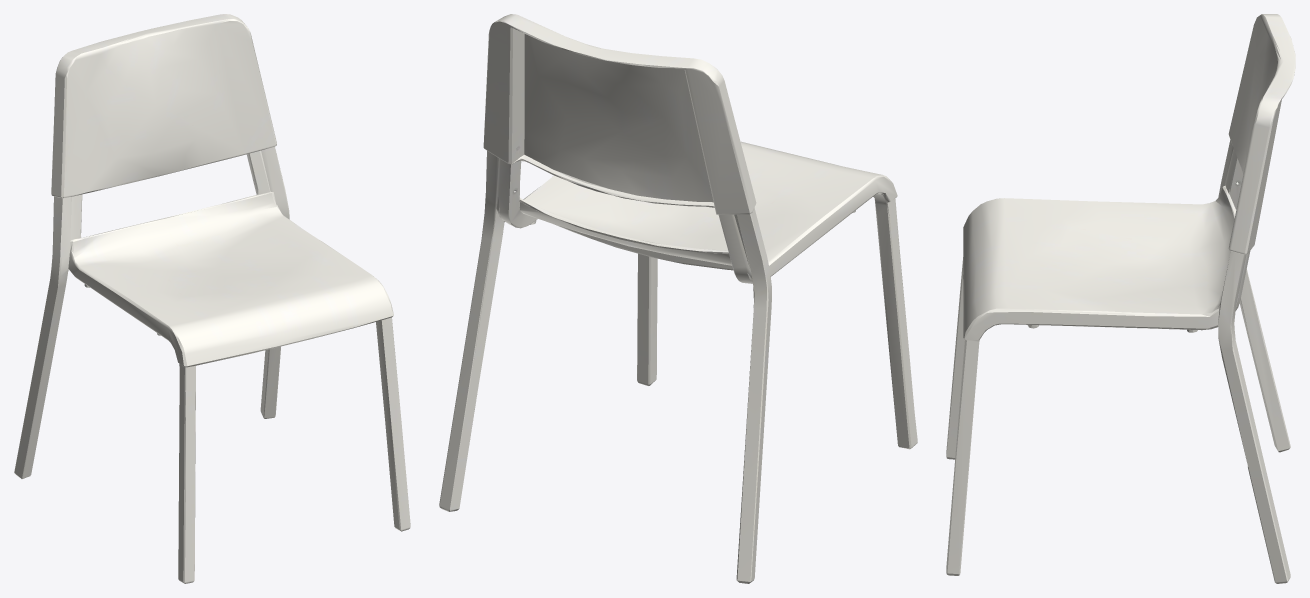
Rendered from 13 - TEODORES - 餐椅, 白色 IKEA 線上購物.glb.
The picture shows the model from 3 angles, left to right: view 1: azimuth 30°, elevation 25°; view 2: azimuth 150°, elevation 25°; view 3: azimuth 270°, elevation 25°; orthographic projection. The views are drawn at different scales.
Visible parts, largest first — view 1: ProcessedMeshNode; view 2: ProcessedMeshNode; view 3: ProcessedMeshNode.
Boxes of the visible parts, x1,y1,x2,y2 form: ProcessedMeshNode: (14, 14, 410, 583); ProcessedMeshNode: (439, 14, 917, 583); ProcessedMeshNode: (946, 14, 1295, 583).
Size of the model in its own units: 0.5177 by 0.7975 by 0.5487.
1 material, 1 textured.
